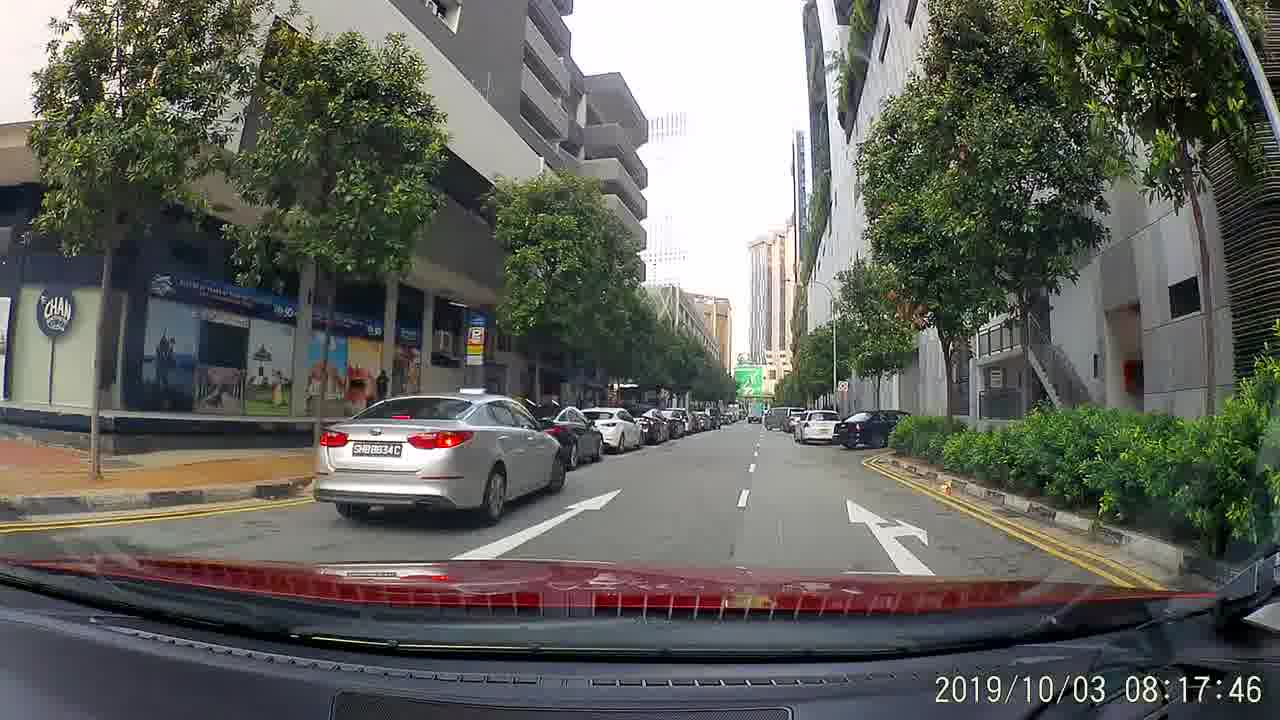car: (308, 389, 566, 527), (518, 401, 603, 472), (833, 405, 921, 448), (578, 405, 645, 453), (790, 409, 845, 447), (621, 406, 667, 444), (653, 411, 688, 436)
